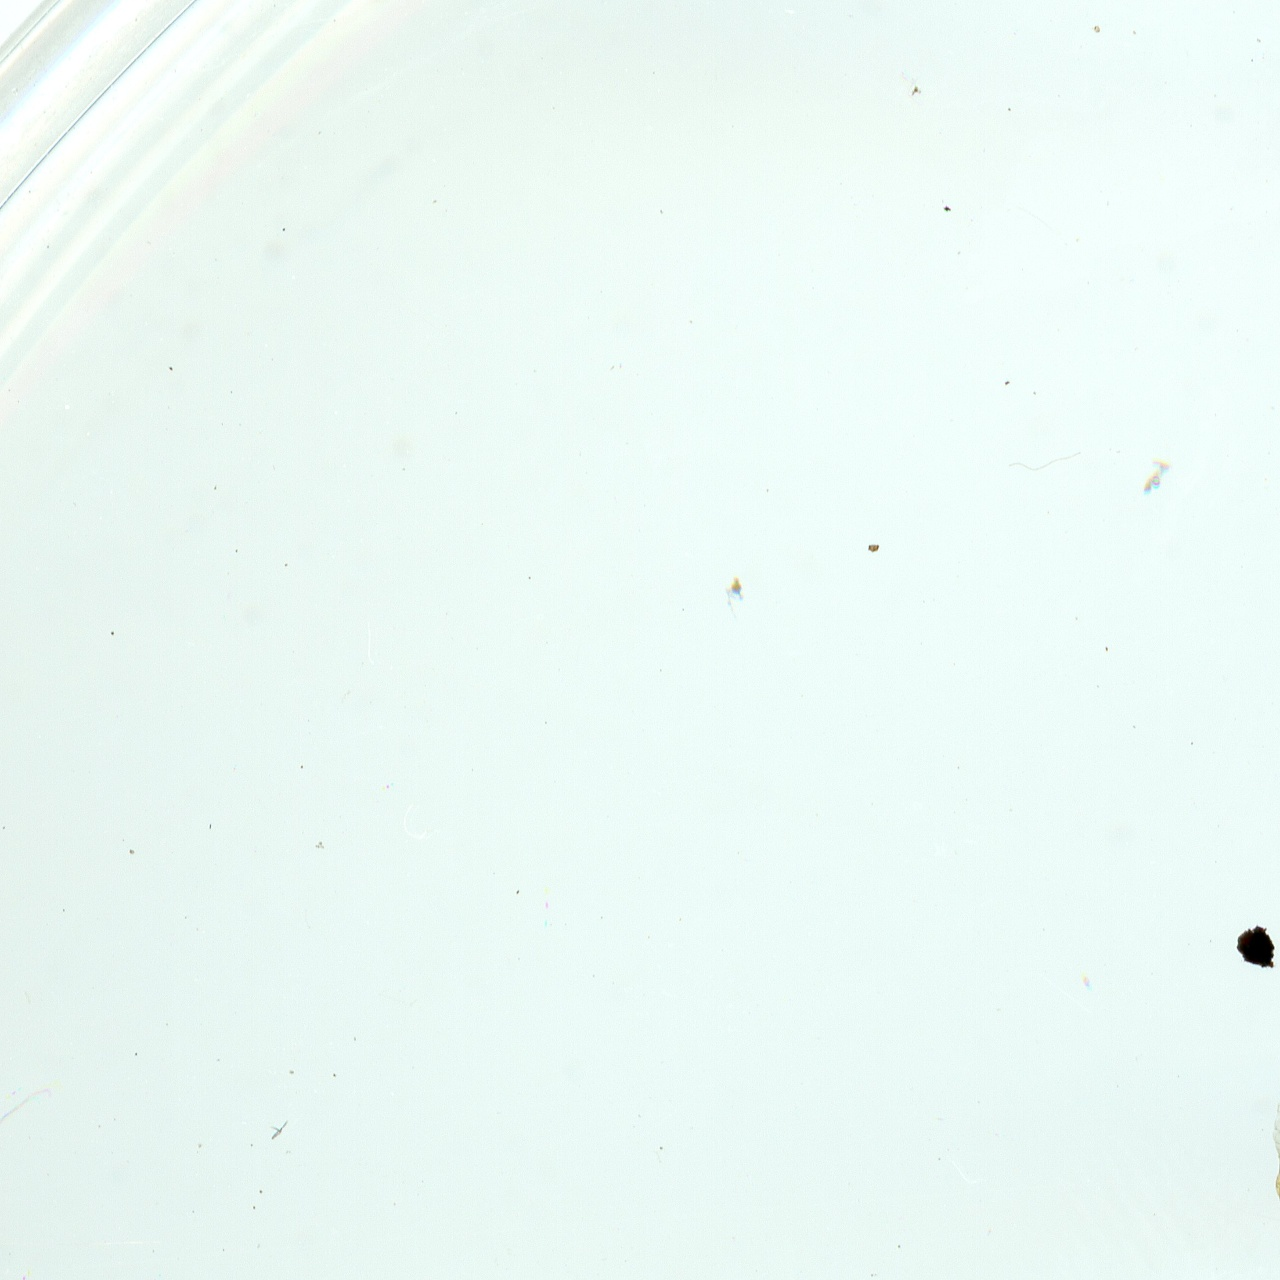arthropod: (1265, 1067, 1280, 1225)
